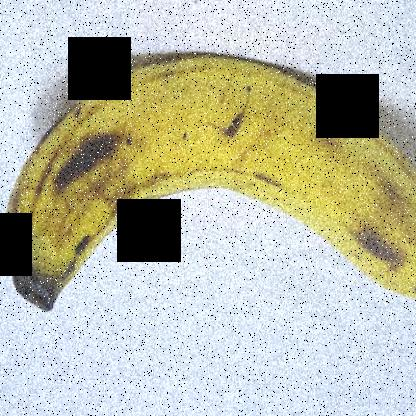ripe: (3, 35, 415, 348)
